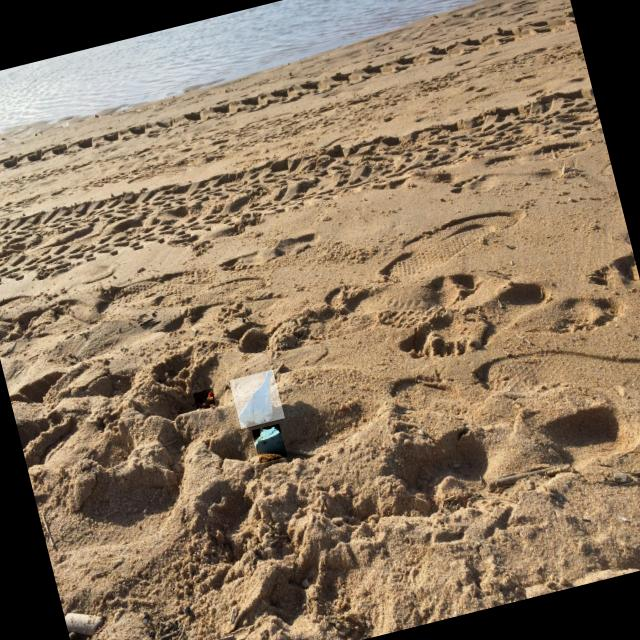Styrofoam piece: (238, 369, 272, 427), (254, 427, 285, 457)
Unlabeled litter: (196, 391, 213, 408)
